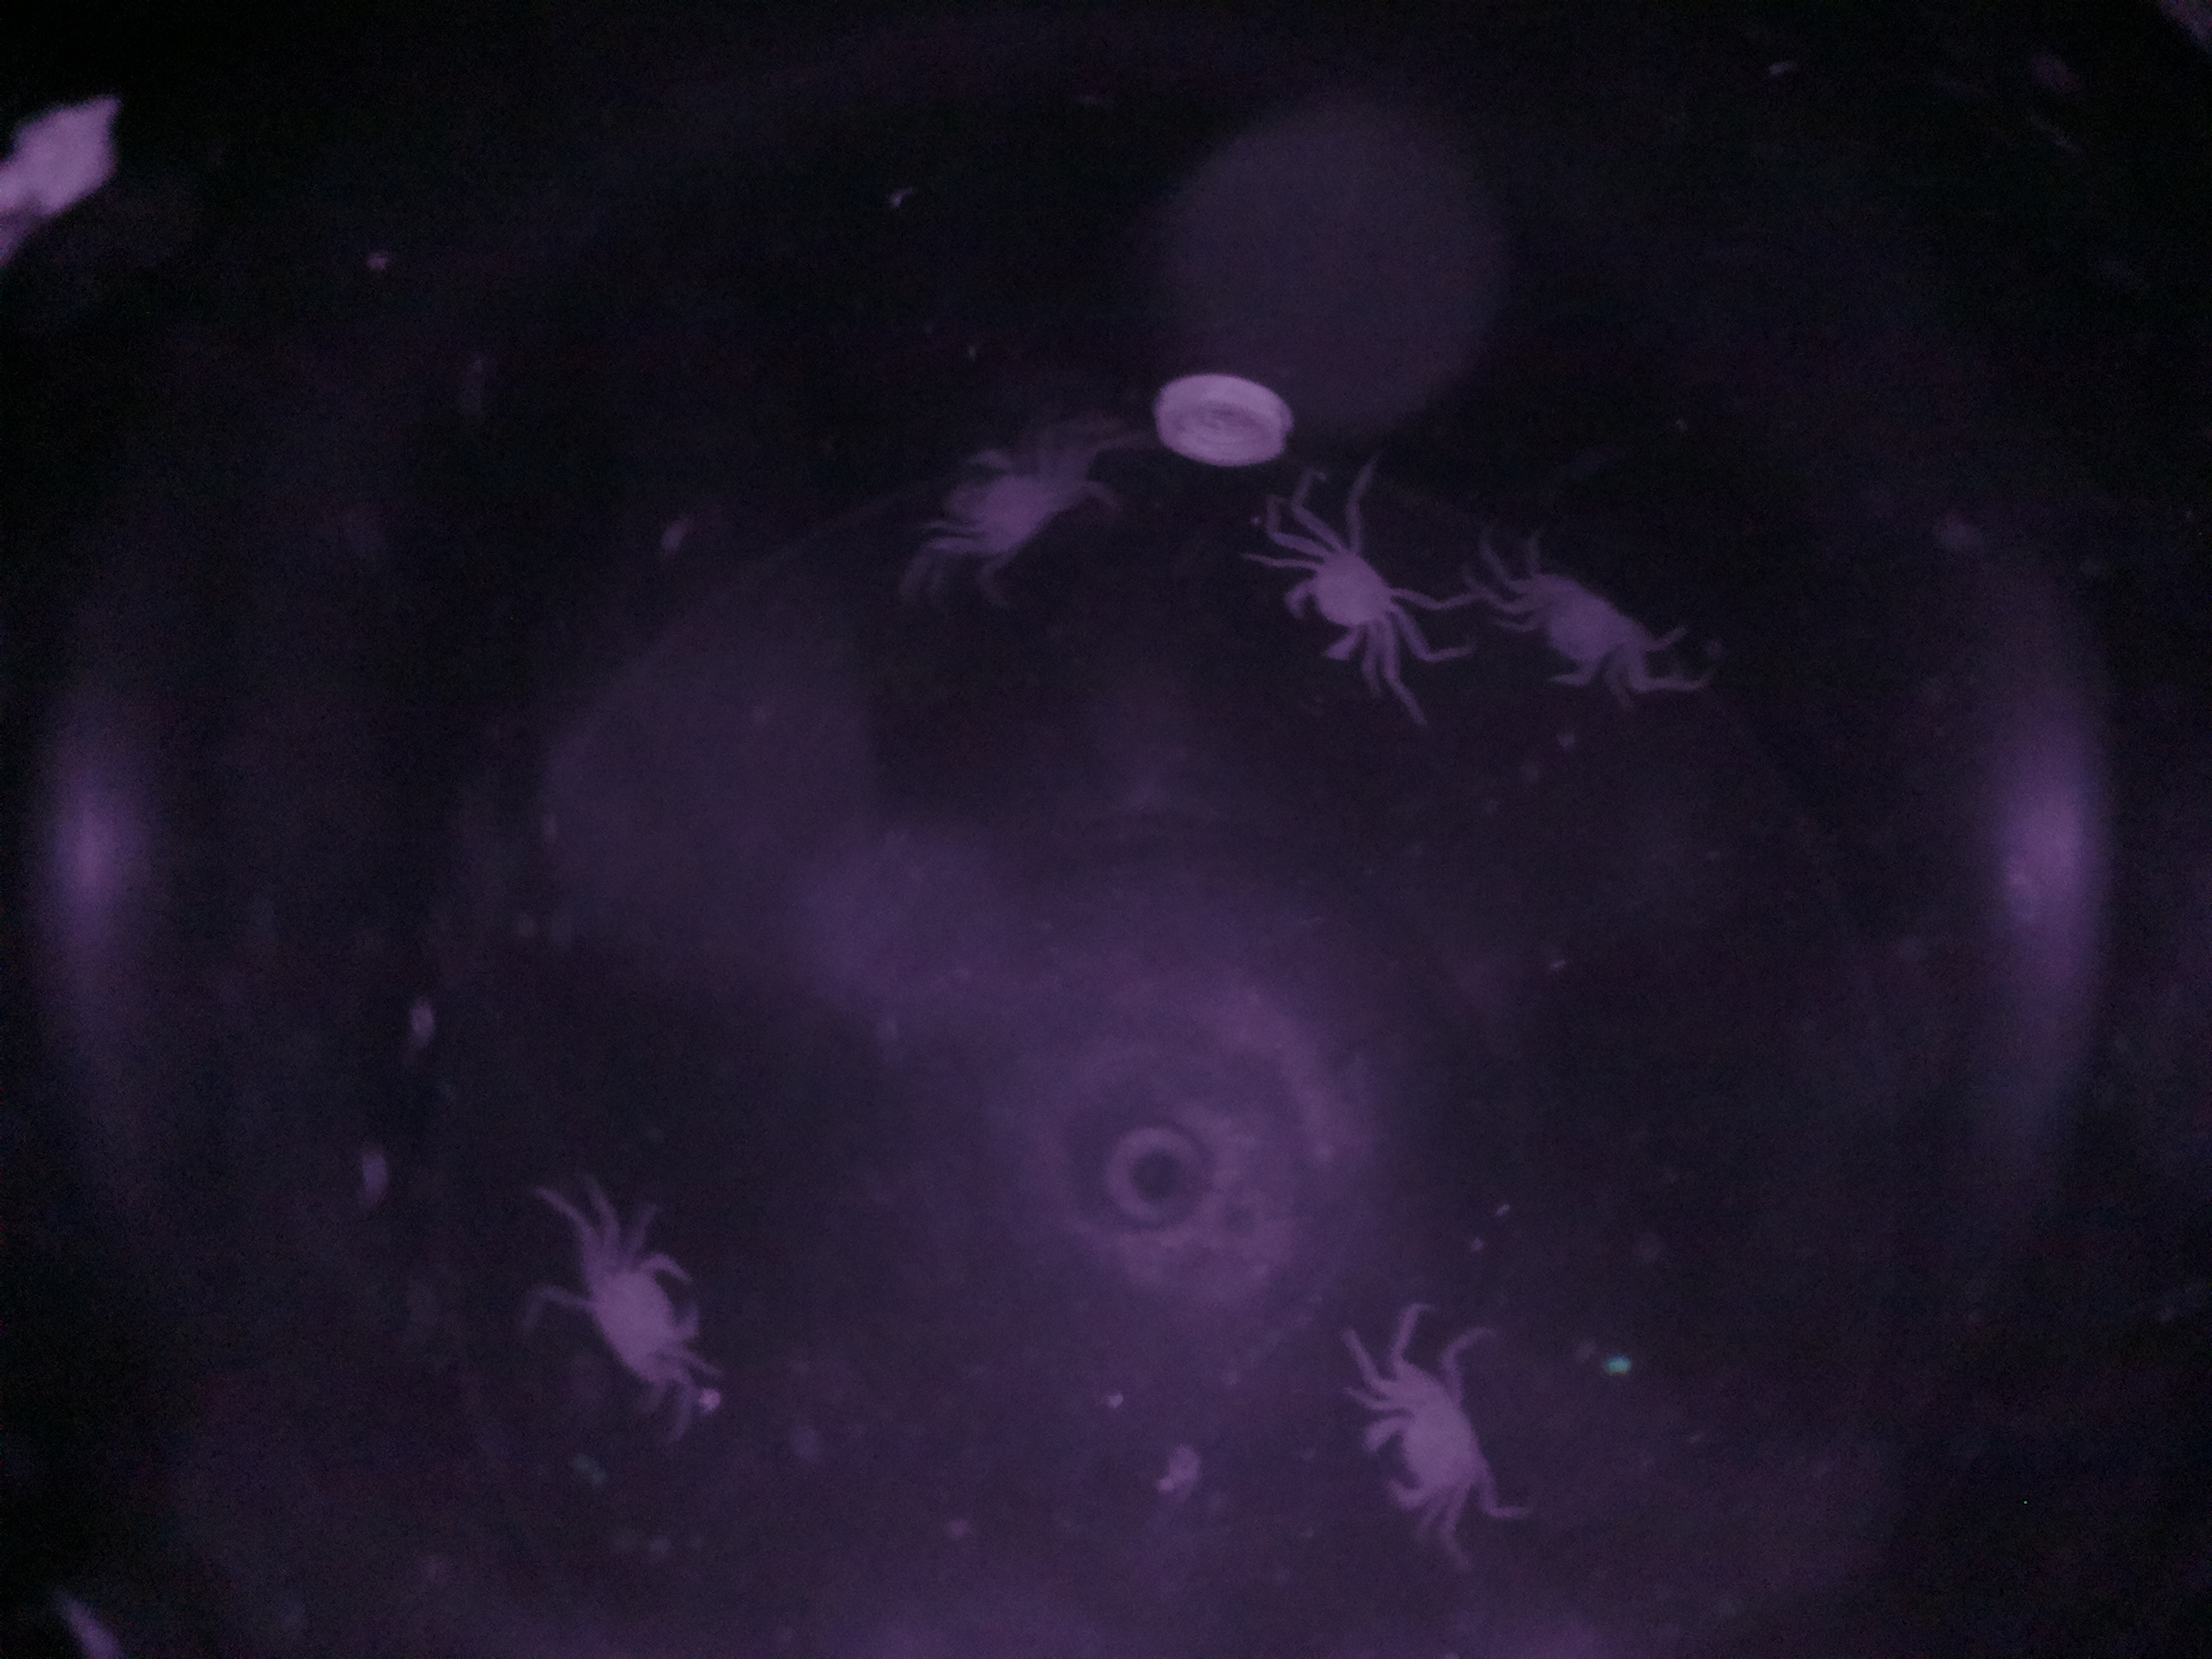Crab: (538, 1225, 712, 1413), (1343, 1356, 1496, 1540), (1263, 514, 1425, 680)
